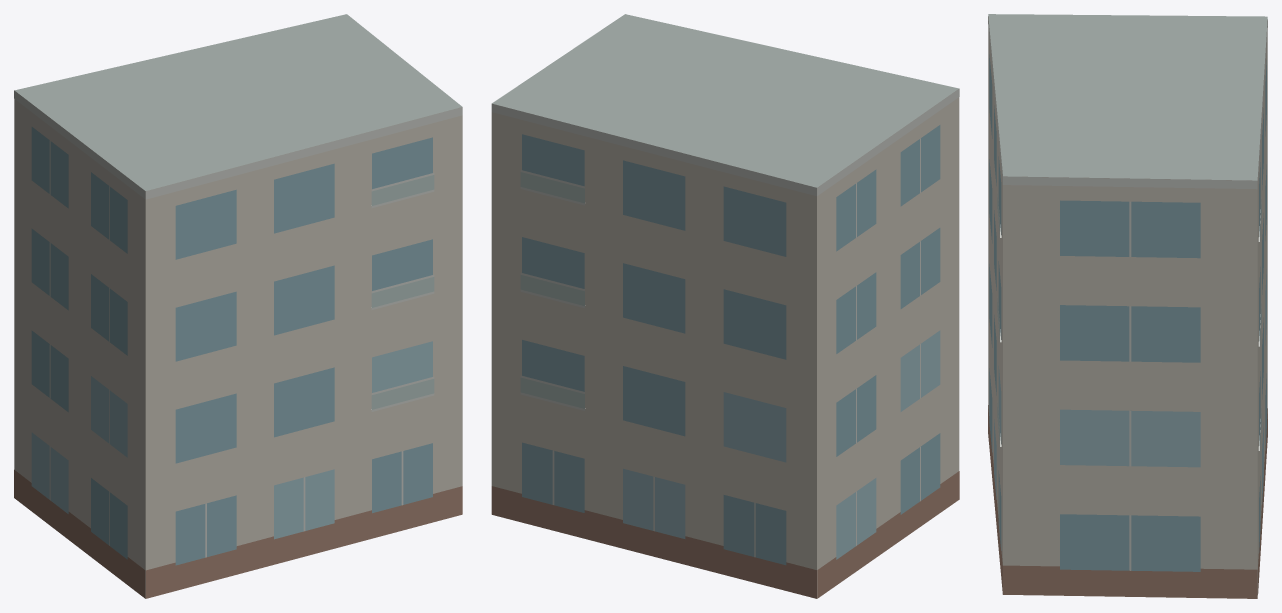
The model's file is survey-upis-32672821.glb.
3 renders of one model, left to right at view 1: azimuth 30°, elevation 25°; view 2: azimuth 150°, elevation 25°; view 3: azimuth 270°, elevation 25°, orthographic. The views are drawn at different scales.
Parts seen in each view (by area): view 1: survey-upis-32672821.tmp; view 2: survey-upis-32672821.tmp; view 3: survey-upis-32672821.tmp.
Boxes of the visible parts, x1=… form: survey-upis-32672821.tmp: x1=14, y1=14, x2=462, y2=598; survey-upis-32672821.tmp: x1=491, y1=14, x2=959, y2=598; survey-upis-32672821.tmp: x1=988, y1=14, x2=1267, y2=598.
Bounding box in the file's own units: 10.08 × 11.8 × 7.16.
